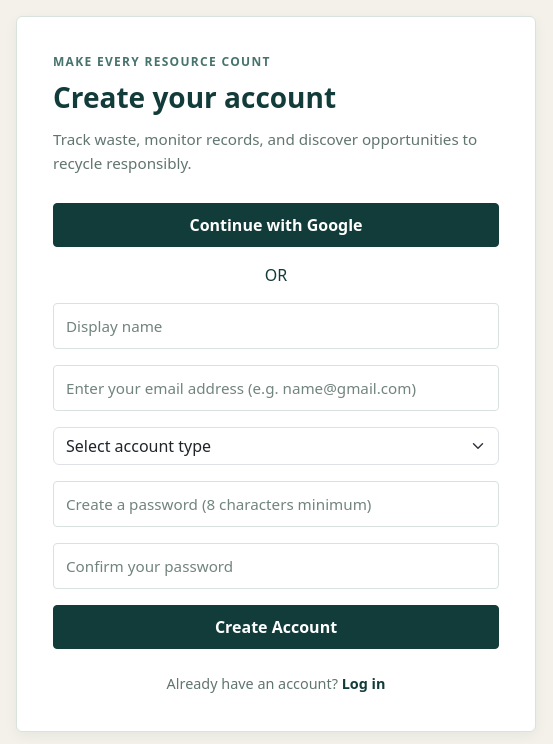
it: Signup Page › displays an error when account creation fails
In the field labelled "Display name": (276, 326) [53, 303, 499, 349], type "Test User"
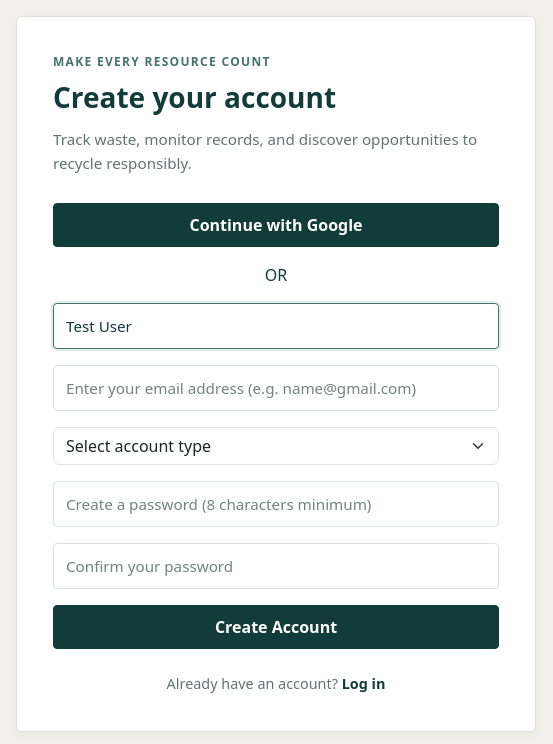
In the field labelled "Enter your email address (e.g. name@gmail.com)": (276, 388) [53, 365, 499, 411], type "test@example.com"
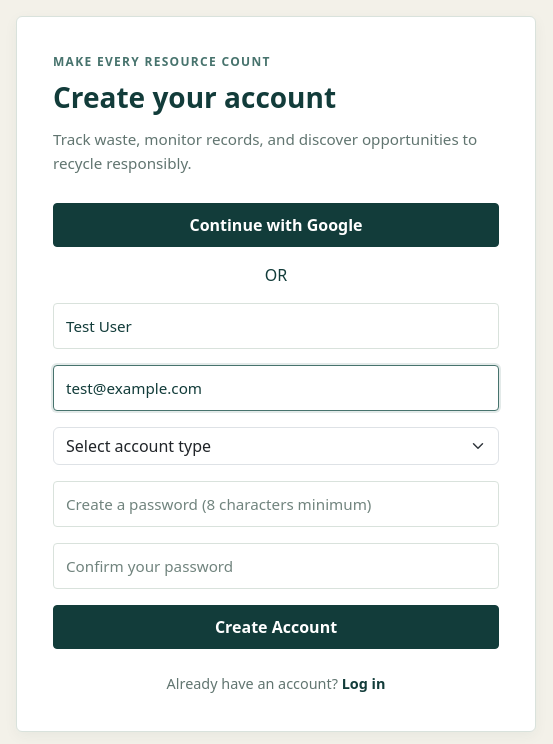
Select "Resident" in the dropdown named "account type": (276, 446) [53, 427, 499, 465]
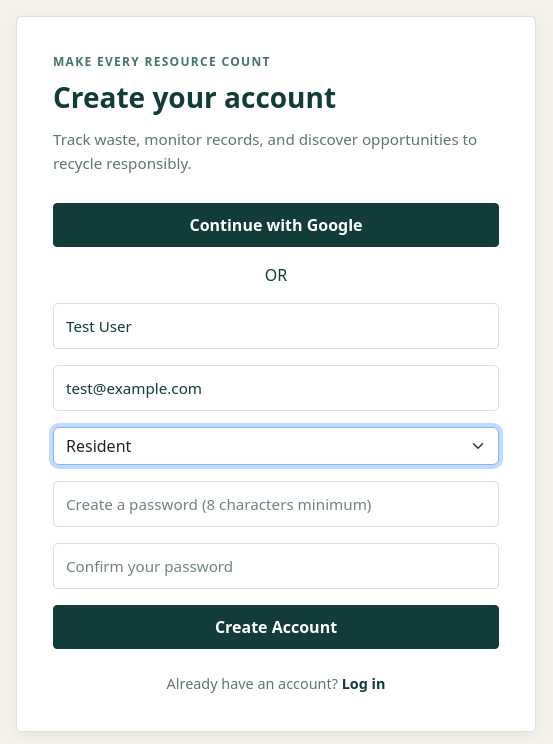
In the password field labelled "Create a password (8 characters minimum)": (276, 504) [53, 481, 499, 527], type "Password123"
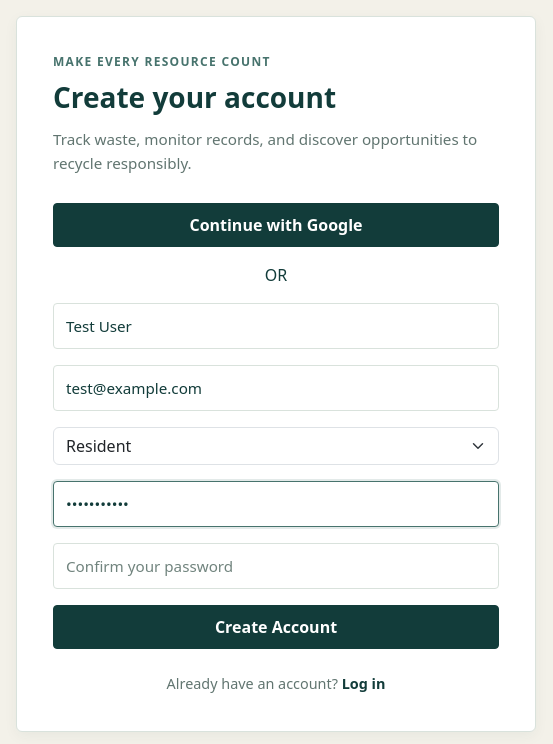
In the password field labelled "Confirm your password": (276, 566) [53, 543, 499, 589], type "Password123"
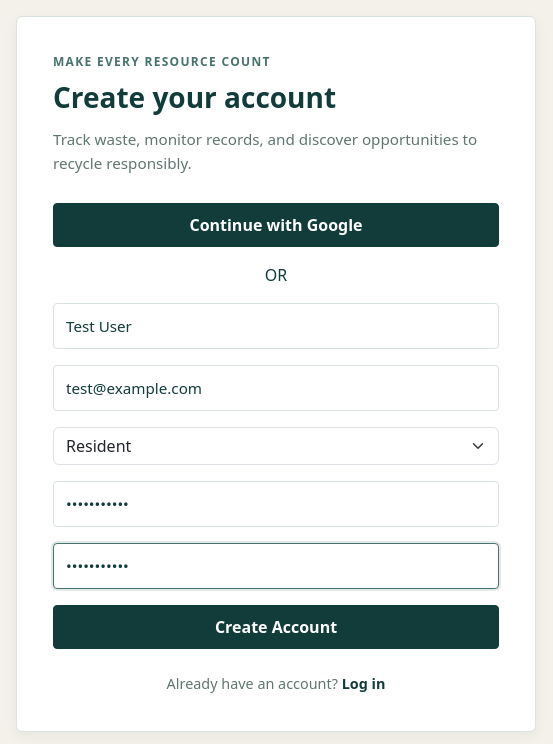
Click the button "Create Account": (276, 627) [53, 605, 499, 649]
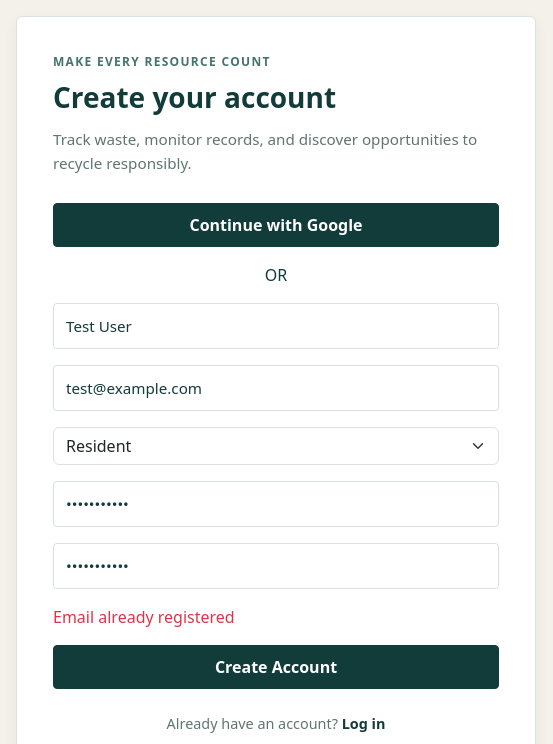
Now the message reads "Email already registered", box [53, 606, 235, 628]
